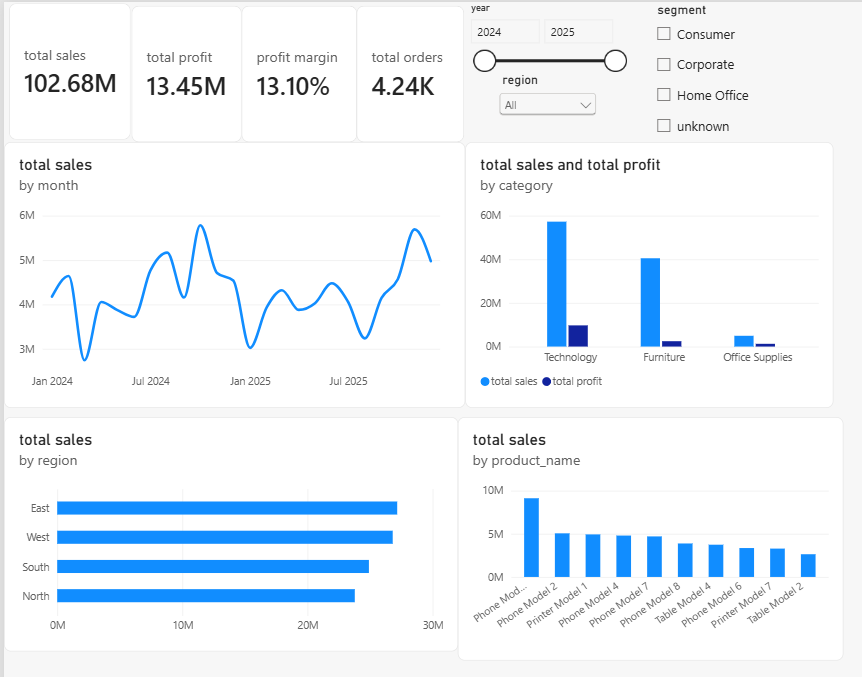

The dashboard page shown, as its layout file describes it:
{"tool":"powerbi","page":{"name":"Page 1","canvas":[1920,1080],"ordinal":0},"visuals":[{"type":"cardVisual","fields":{"Data":["cleaned_sales_data.total orders"]},"box":[403,4,123,156],"z":0},{"type":"cardVisual","fields":{"Data":["cleaned_sales_data.total sales"]},"box":[6,2,139,156],"z":1000},{"type":"cardVisual","fields":{"Data":["cleaned_sales_data.total profit"]},"box":[145,4,126,156],"z":2000},{"type":"cardVisual","fields":{"Data":["cleaned_sales_data.profit margin"]},"box":[271,4,132,156],"z":3000},{"type":"lineChart","fields":{"Category":["cleaned_sales_data.month"],"Y":["cleaned_sales_data.total sales"]},"box":[0,160,527,304],"z":4000},{"type":"clusteredColumnChart","fields":{"Category":["cleaned_sales_data.category"],"Y":["cleaned_sales_data.total sales","cleaned_sales_data.total profit"]},"box":[527,160,421,304],"z":5000},{"type":"clusteredBarChart","fields":{"Category":["cleaned_sales_data.region"],"Y":["cleaned_sales_data.total sales"]},"box":[0,474,519,268],"z":6000},{"type":"columnChart","fields":{"Category":["cleaned_sales_data.product_name"],"Y":["cleaned_sales_data.total sales"]},"box":[519,474,441,278],"z":6001},{"type":"slicer","fields":{"Values":["cleaned_sales_data.year"]},"box":[526,0,189,94],"z":6002},{"type":"slicer","fields":{"Values":["cleaned_sales_data.segment"]},"box":[738,0,142,166],"z":6004},{"type":"slicer","fields":{"Values":["cleaned_sales_data.region"]},"box":[561,80,120,60],"z":6005}]}

Visuals, with their boxes on the page's 1920x1080 design canvas (x1, y1, x2, y2). These are canvas units, not pixel positions in the 862x677 screenshot, which may show the page scaled, cropped or inside an application window:
cardVisual - cleaned_sales_data.total orders: select_region(403, 4, 526, 160)
cardVisual - cleaned_sales_data.total sales: select_region(6, 2, 145, 158)
cardVisual - cleaned_sales_data.total profit: select_region(145, 4, 271, 160)
cardVisual - cleaned_sales_data.profit margin: select_region(271, 4, 403, 160)
lineChart - cleaned_sales_data.month x cleaned_sales_data.total sales: select_region(0, 160, 527, 464)
clusteredColumnChart - cleaned_sales_data.category x cleaned_sales_data.total sales: select_region(527, 160, 948, 464)
clusteredBarChart - cleaned_sales_data.region x cleaned_sales_data.total sales: select_region(0, 474, 519, 742)
columnChart - cleaned_sales_data.product_name x cleaned_sales_data.total sales: select_region(519, 474, 960, 752)
slicer - cleaned_sales_data.year: select_region(526, 0, 715, 94)
slicer - cleaned_sales_data.segment: select_region(738, 0, 880, 166)
slicer - cleaned_sales_data.region: select_region(561, 80, 681, 140)
